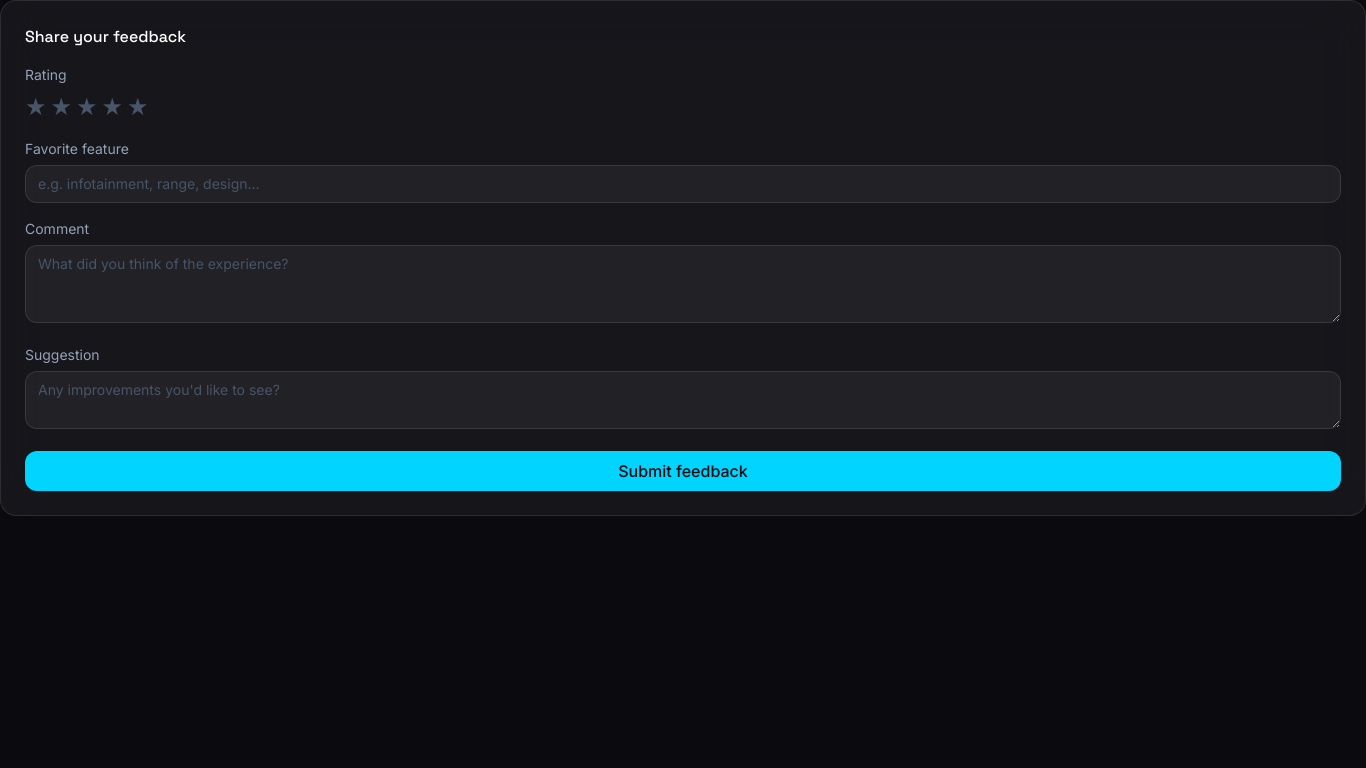
FeedbackForm › shows an error message when api.post rejects
Click the button "Submit feedback".
click(683, 471)  # box [25, 451, 1341, 491]
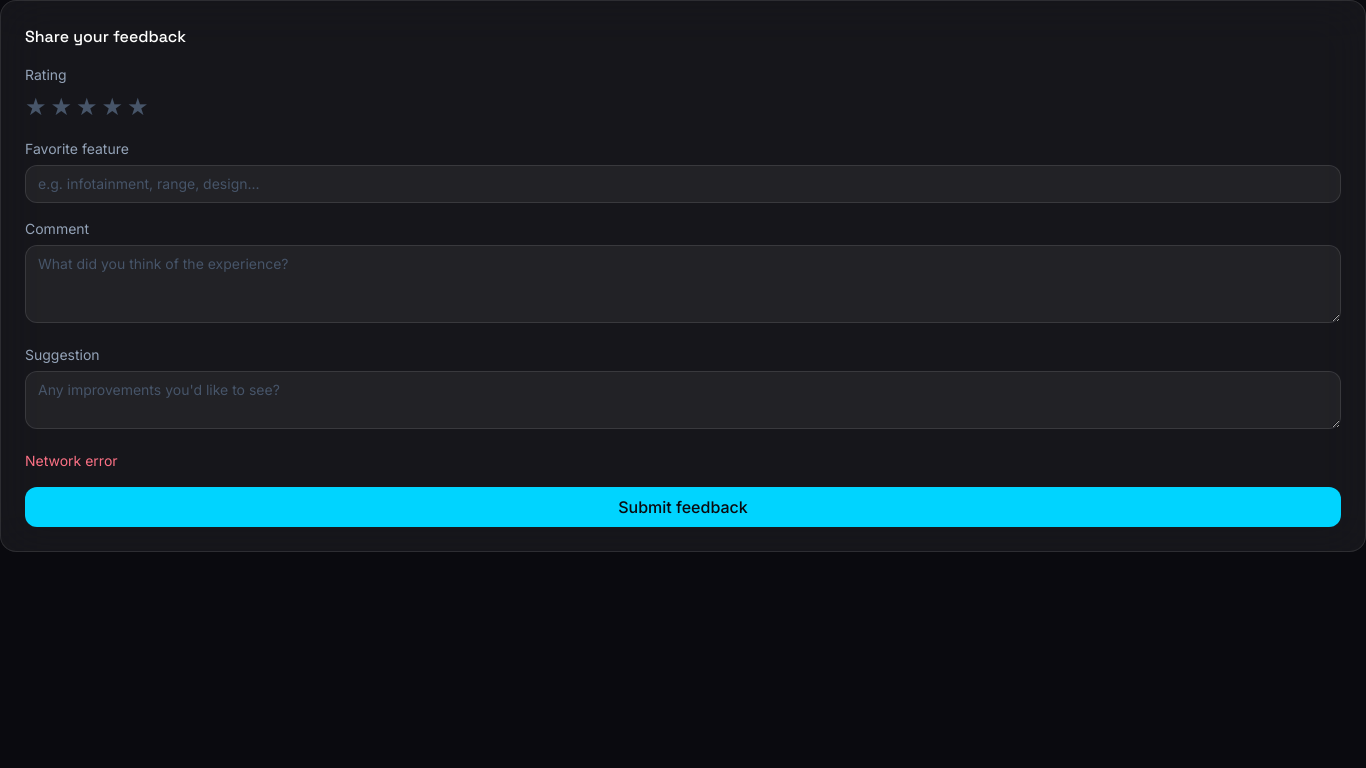
Check: the text "Network error" is shown, box [25, 452, 118, 469]
